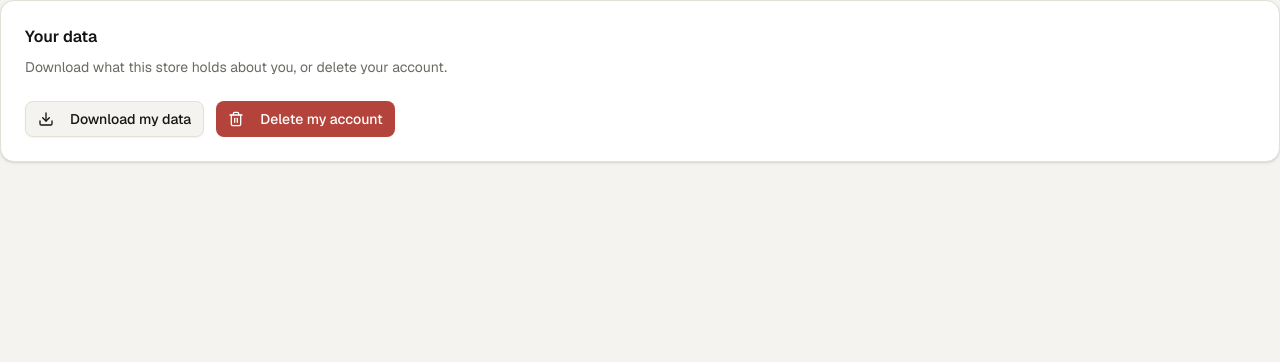
it: Your data card (studio issue #603) › lets the person back out
This screenshot has width=1280, height=362.
Click the button "Delete my account" at (306,119), box [216,101,395,137]
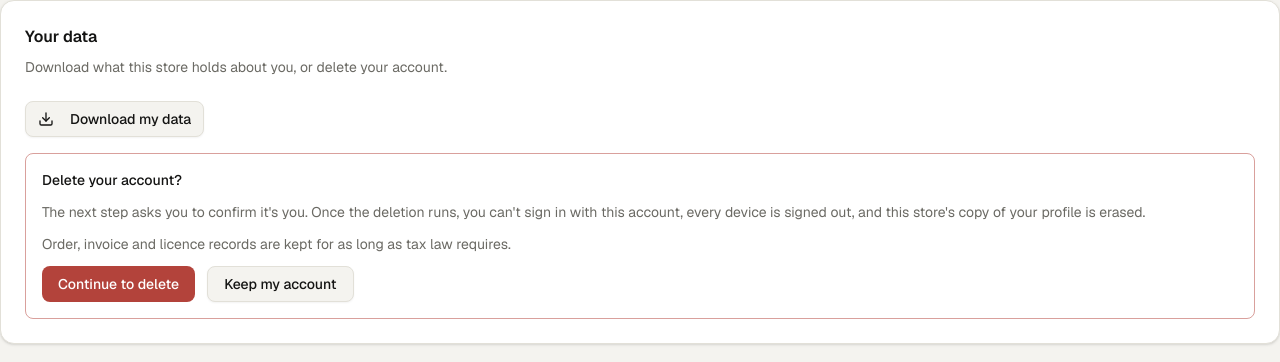
Click the button "Keep my account" at (280,284), box [207,266,354,302]
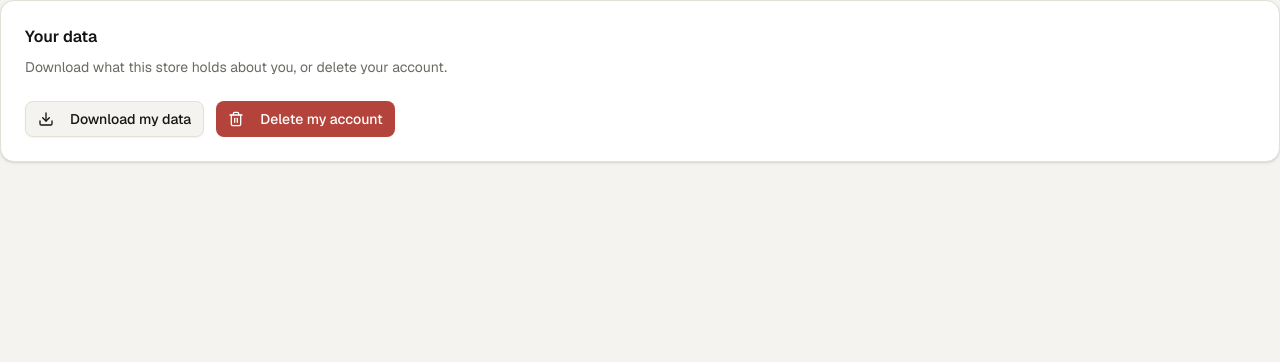
Expected: the text "tax law" is gone
